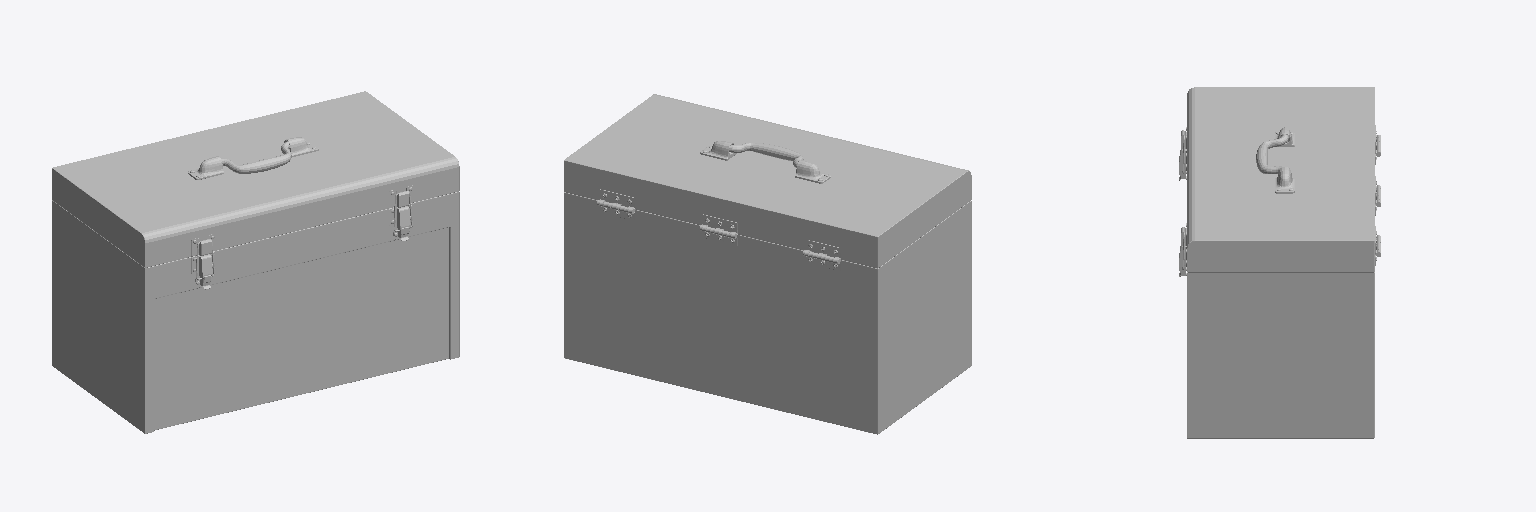
Rendered from Suitcase_for_tools.obj.
3 views of the same model, side by side, from view 1: azimuth 30°, elevation 25°; view 2: azimuth 150°, elevation 25°; view 3: azimuth 270°, elevation 25° (orthographic).
Visible parts, largest first — view 1: Briefcase_Plane.014; view 2: Briefcase_Plane.014; view 3: Briefcase_Plane.014.
Part boxes in pixels (x1,y1,x2,y2): Briefcase_Plane.014: (52,91,459,433); Briefcase_Plane.014: (564,94,971,434); Briefcase_Plane.014: (1179,87,1380,438).
Bounding box in the file's own units: 0.5106 × 0.3288 × 0.2853.